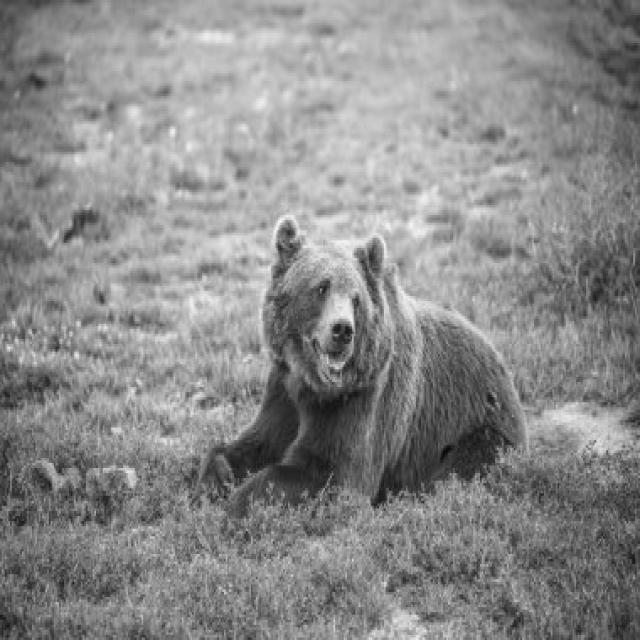Animal: (192, 216, 528, 517)
